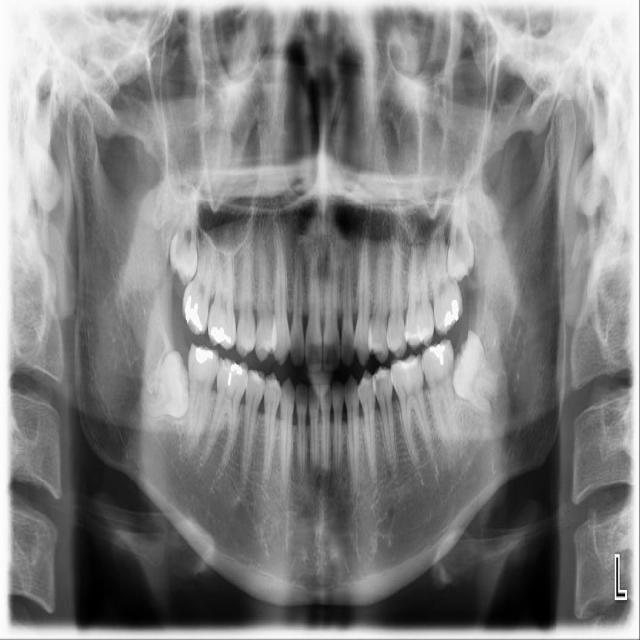Filling: (438, 298, 461, 332), (183, 295, 203, 333), (222, 361, 244, 385), (428, 341, 449, 363), (207, 325, 231, 344), (374, 367, 390, 391), (193, 345, 214, 362)
impacted tooth: (452, 333, 503, 412), (138, 352, 189, 416), (170, 183, 199, 282), (448, 187, 476, 280)
